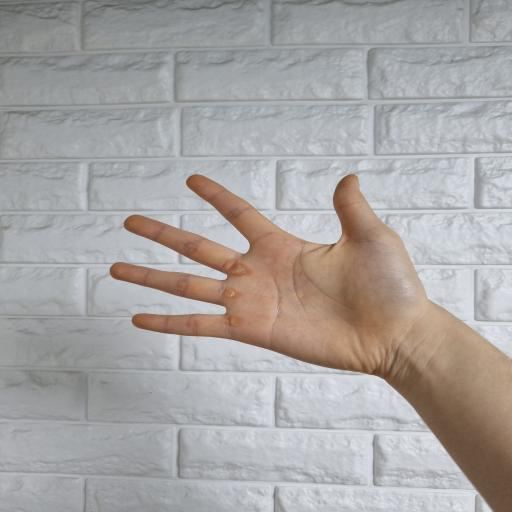Paper: (109, 172, 512, 512)
